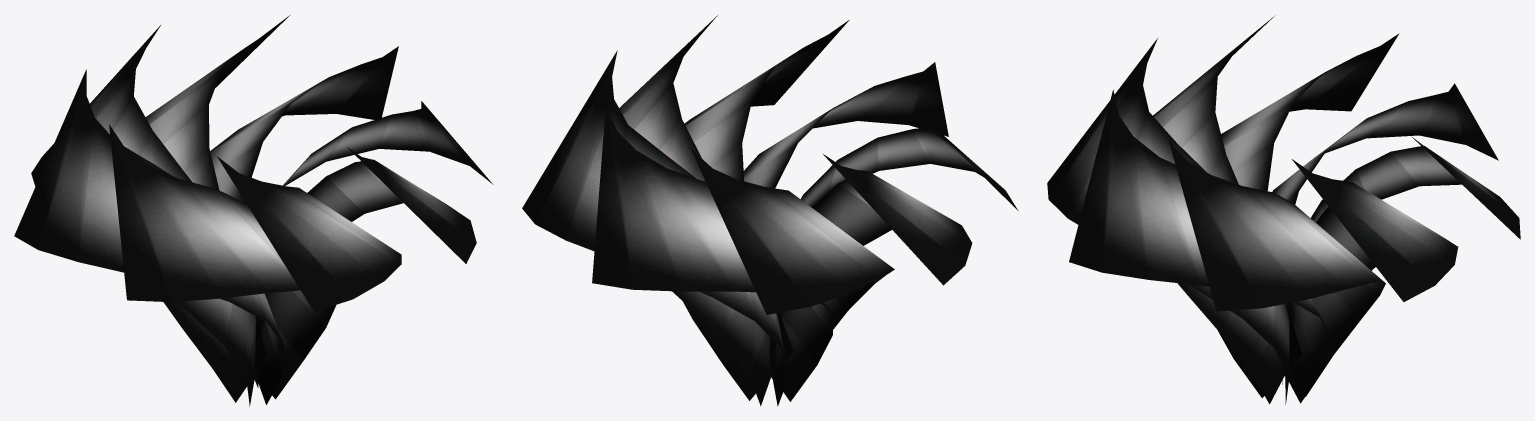
File: vfx_kurp_0243.dae
The picture shows the model from 3 angles, left to right: view 1: azimuth 30°, elevation 25°; view 2: azimuth 150°, elevation 25°; view 3: azimuth 270°, elevation 25°; orthographic projection.
Visible parts, largest first — view 1: vfx_kurp_0243; view 2: vfx_kurp_0243; view 3: vfx_kurp_0243.
Boxes of the visible parts, <box> form: vfx_kurp_0243: <box>14,15,493,406</box>; vfx_kurp_0243: <box>522,15,1018,406</box>; vfx_kurp_0243: <box>1047,16,1520,404</box>.
Size of the model in its own units: 15.05 by 15.05 by 10.93.
1 material, 1 textured.
